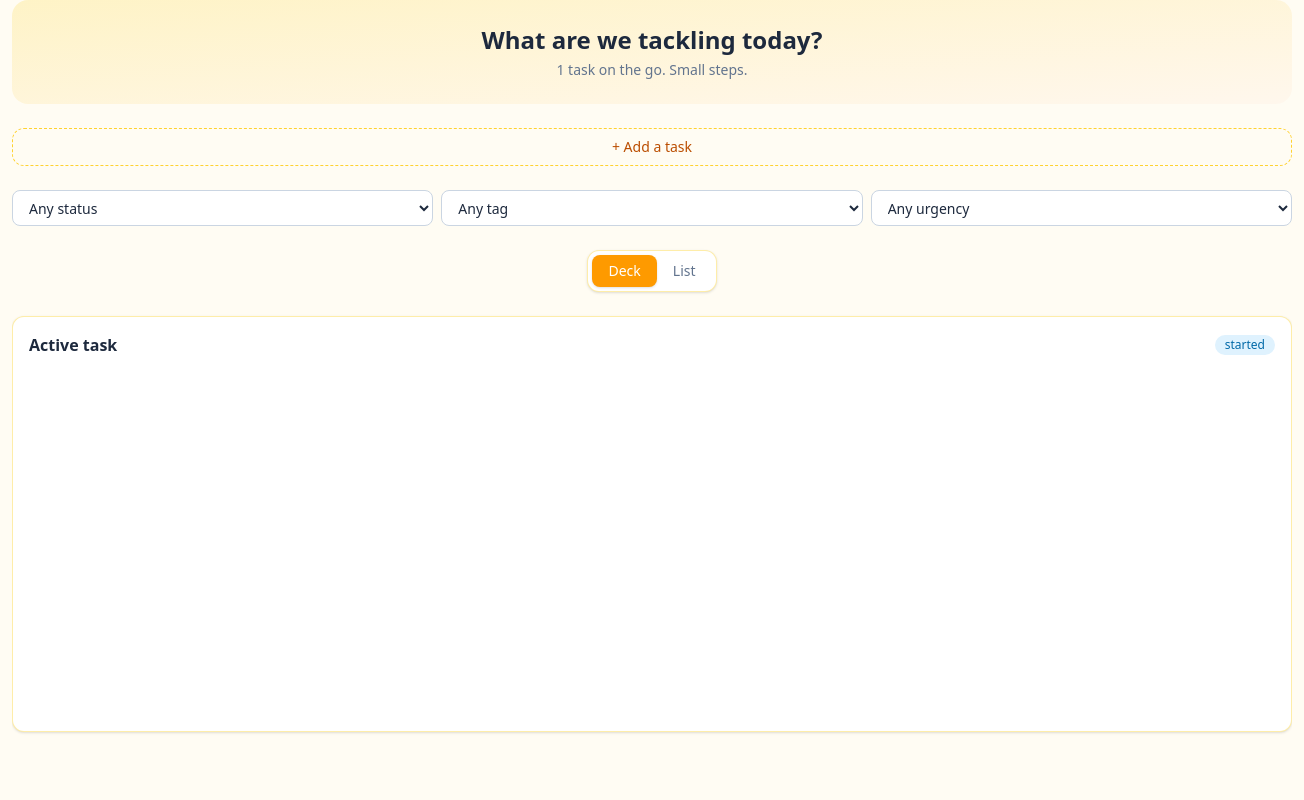
Test: DashboardPage › shows active tasks first and finished tasks separated in list mode
Click the button "list": (684, 271) [657,255,712,287]
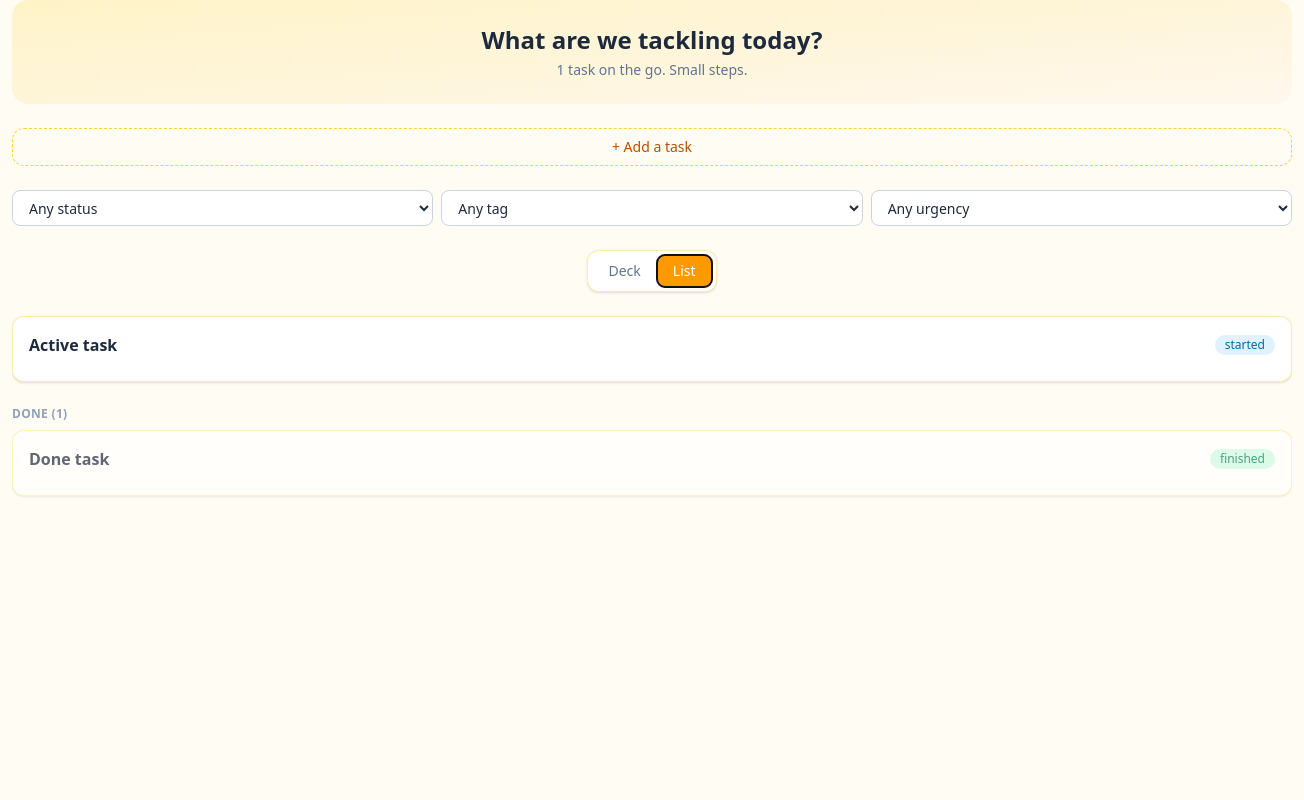
Expected: the heading "Active task" is shown, [29,334,117,356]
Now the heading "Done (1)" is shown, box [12,405,68,422]
